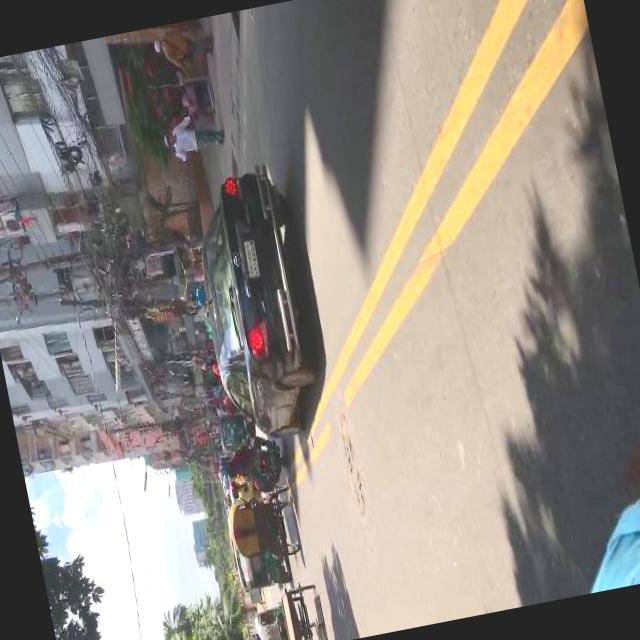car: (180, 156, 332, 452)
motorcycle: (221, 484, 303, 570), (242, 583, 329, 640), (221, 432, 294, 498), (238, 550, 291, 592), (215, 414, 251, 453)
